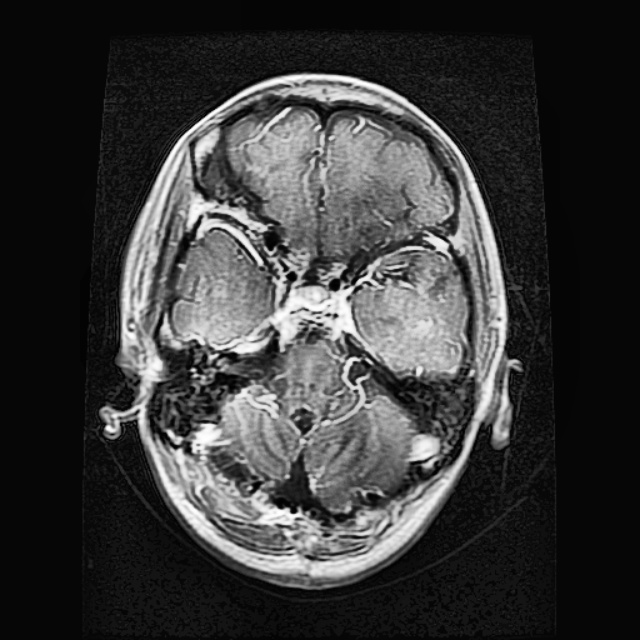Glioma: (288, 402, 314, 434)
